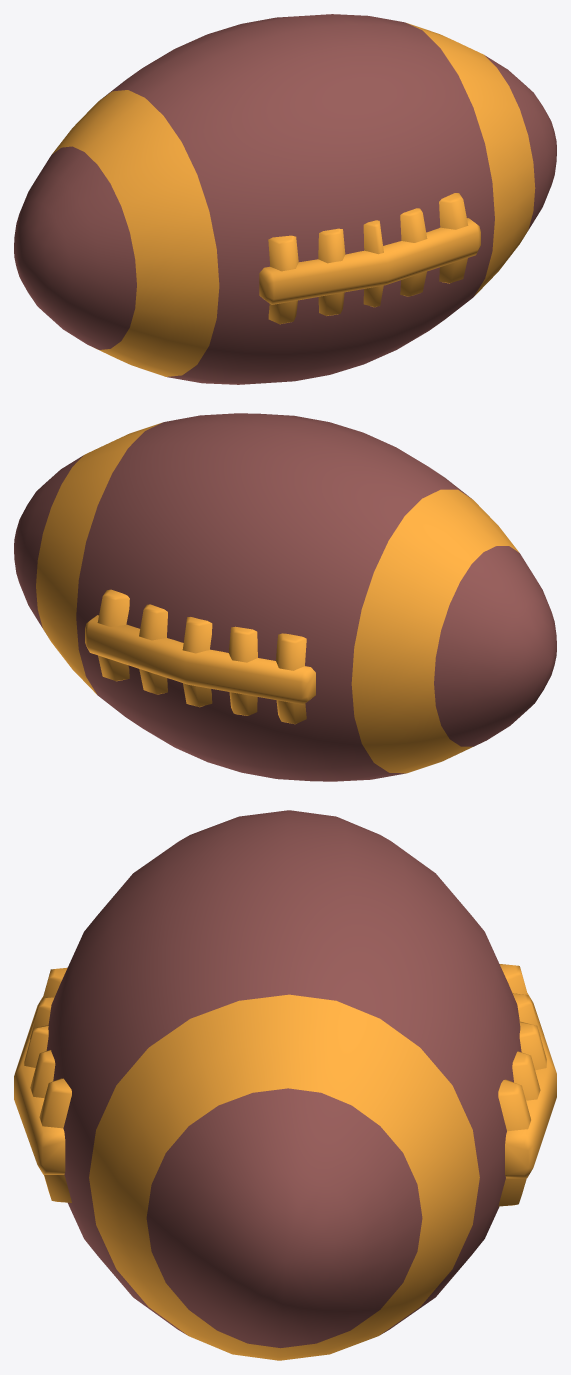
The model's file is ball1.fbx.
3 views of the same model, one above another, from view 1: azimuth 30°, elevation 25°; view 2: azimuth 150°, elevation 25°; view 3: azimuth 270°, elevation 25° (orthographic). The views are drawn at different scales.
Parts seen in each view (by area): view 1: ball1; view 2: ball1; view 3: ball1.
Part boxes in pixels (x1,y1,x2,y2): ball1: [14, 14, 556, 384]; ball1: [14, 413, 556, 781]; ball1: [14, 810, 556, 1360].
Bounding box in the file's own units: 97.1 × 57.61 × 62.96.
